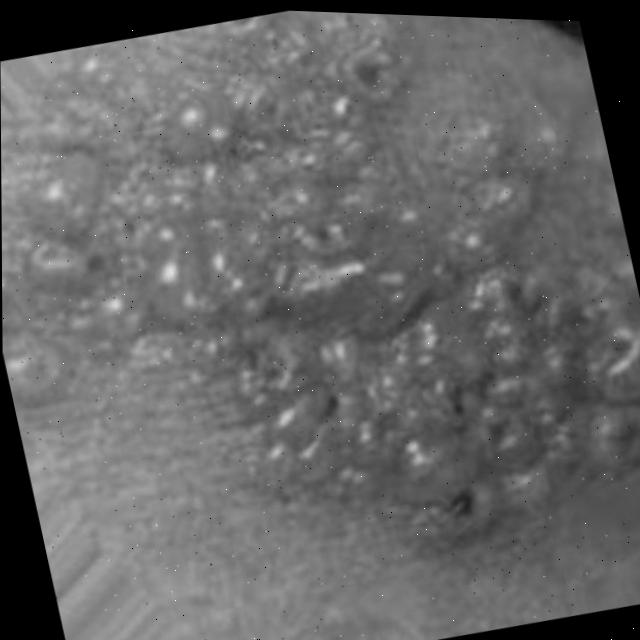Shingles: (0, 0, 640, 638)
